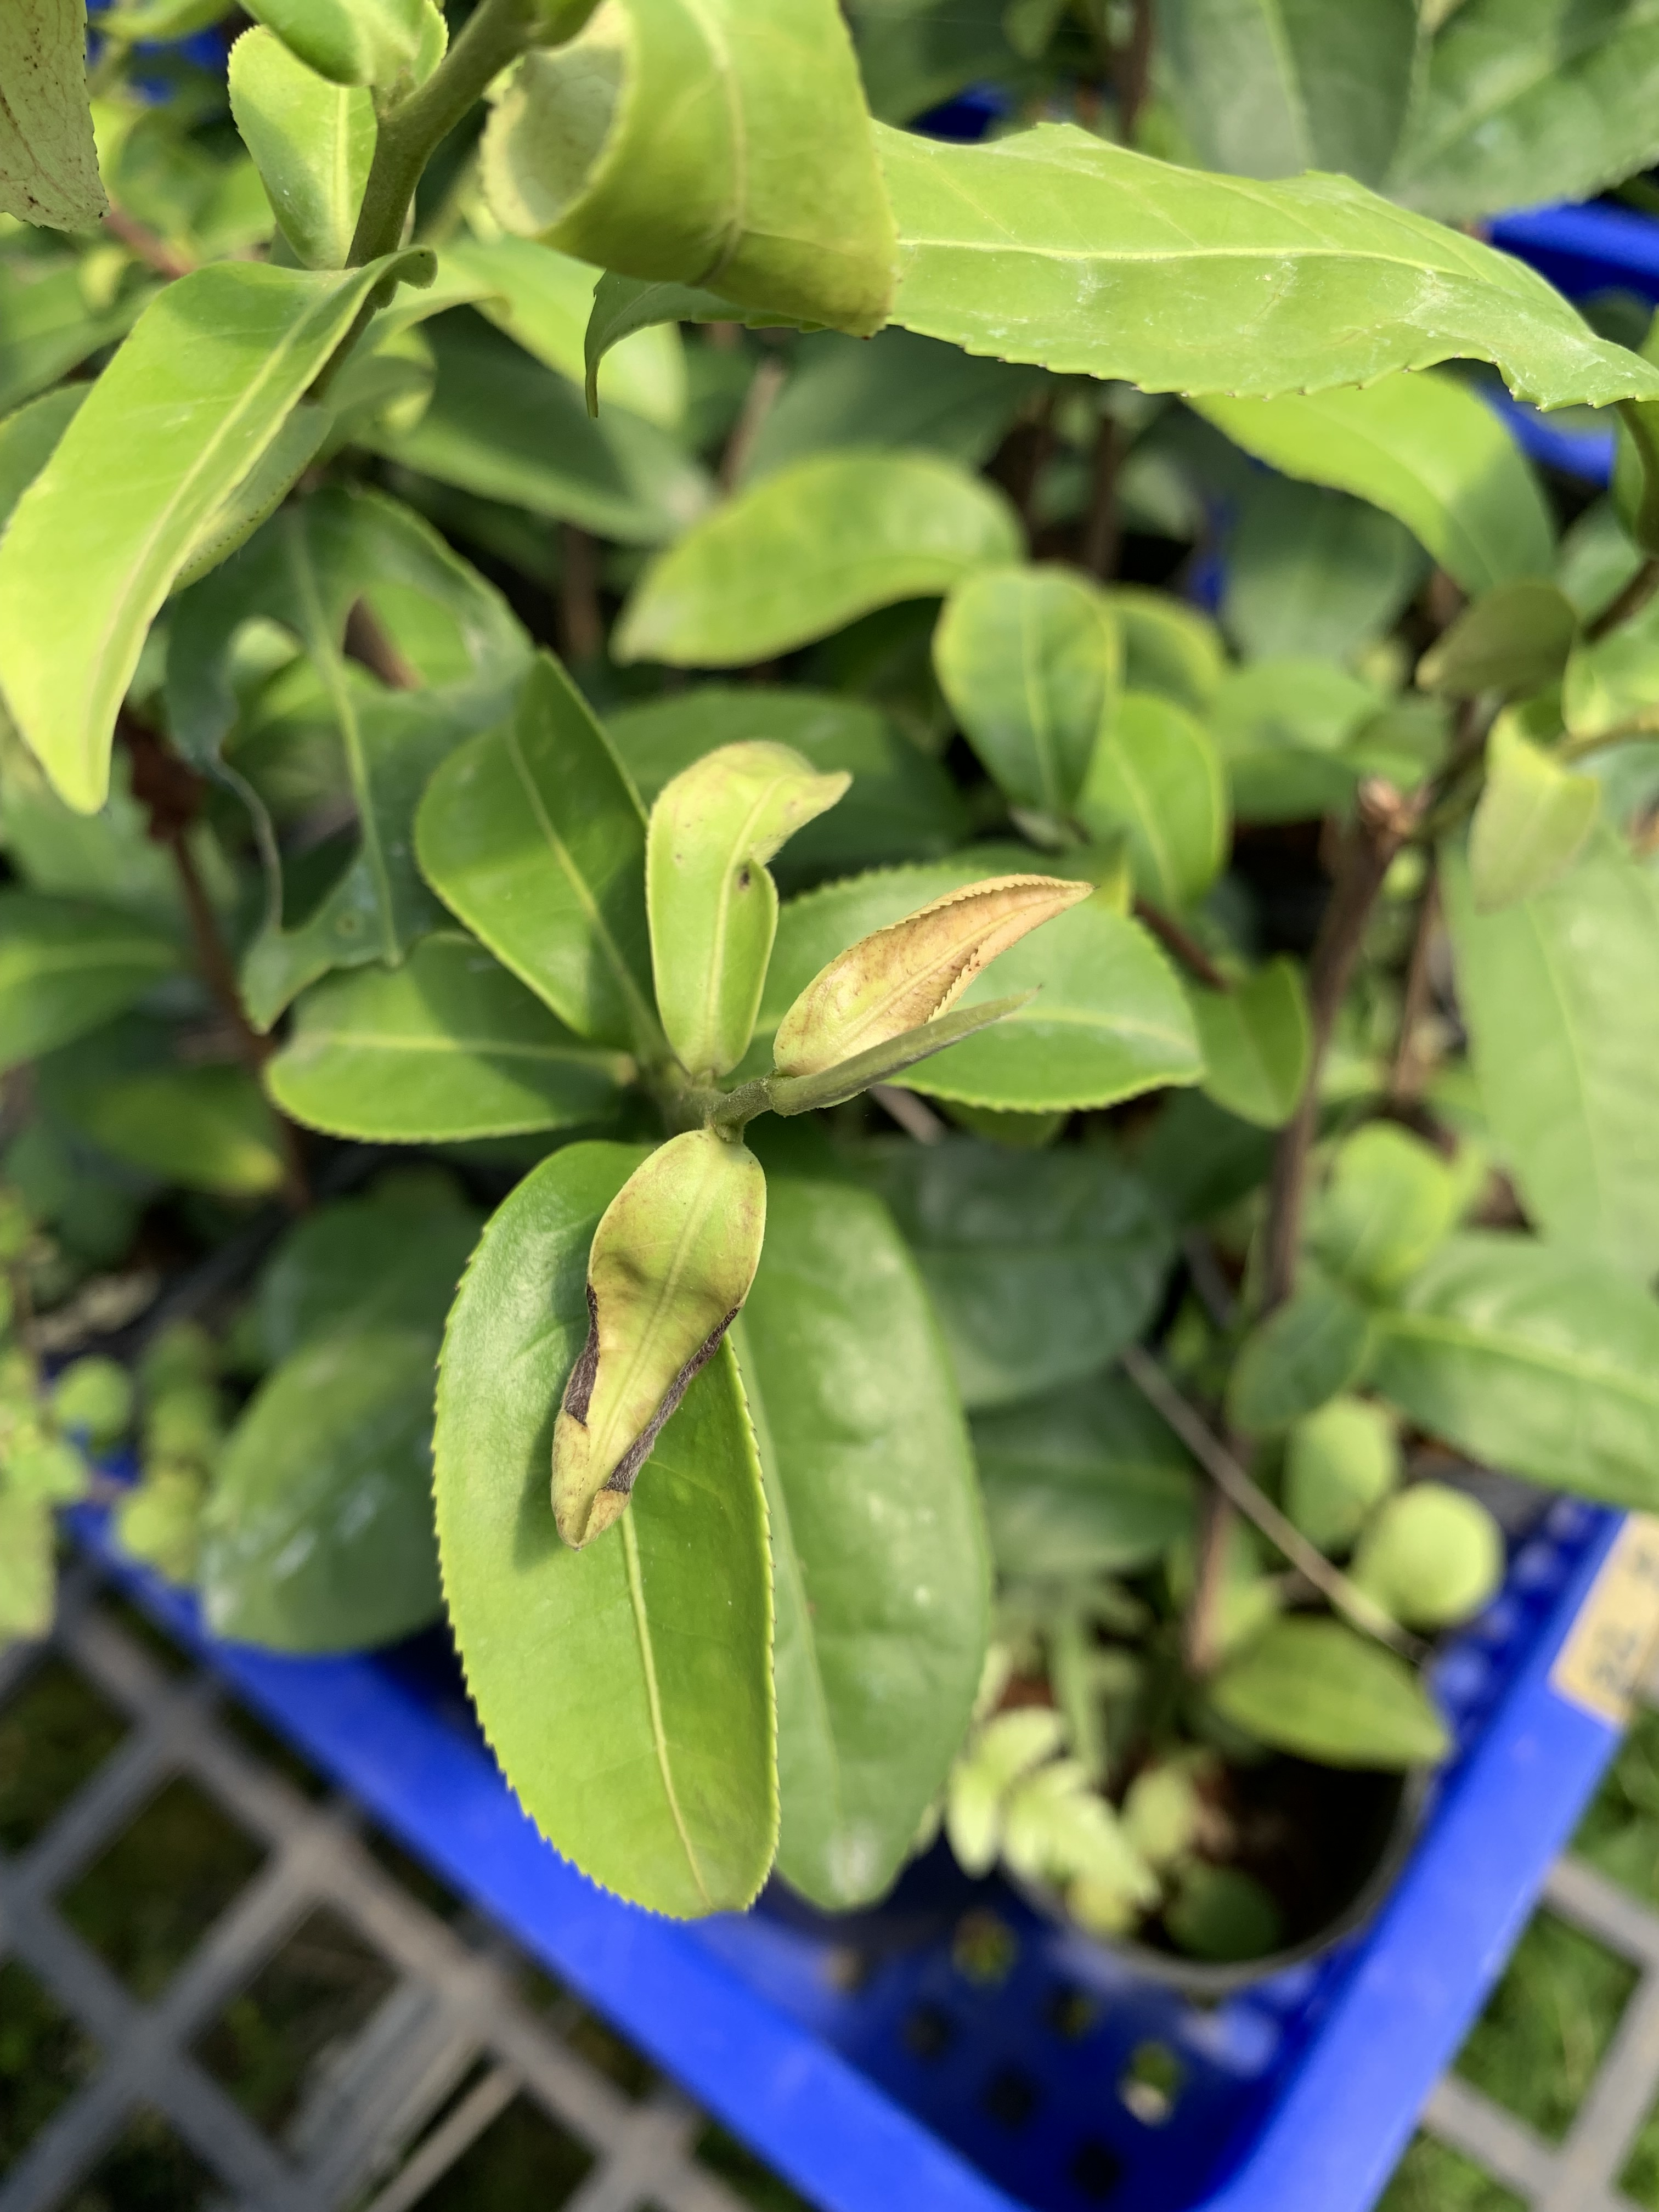formosa: (542, 1115, 765, 1557), (779, 852, 1091, 1111)
fungi_early: (636, 749, 854, 1064)
